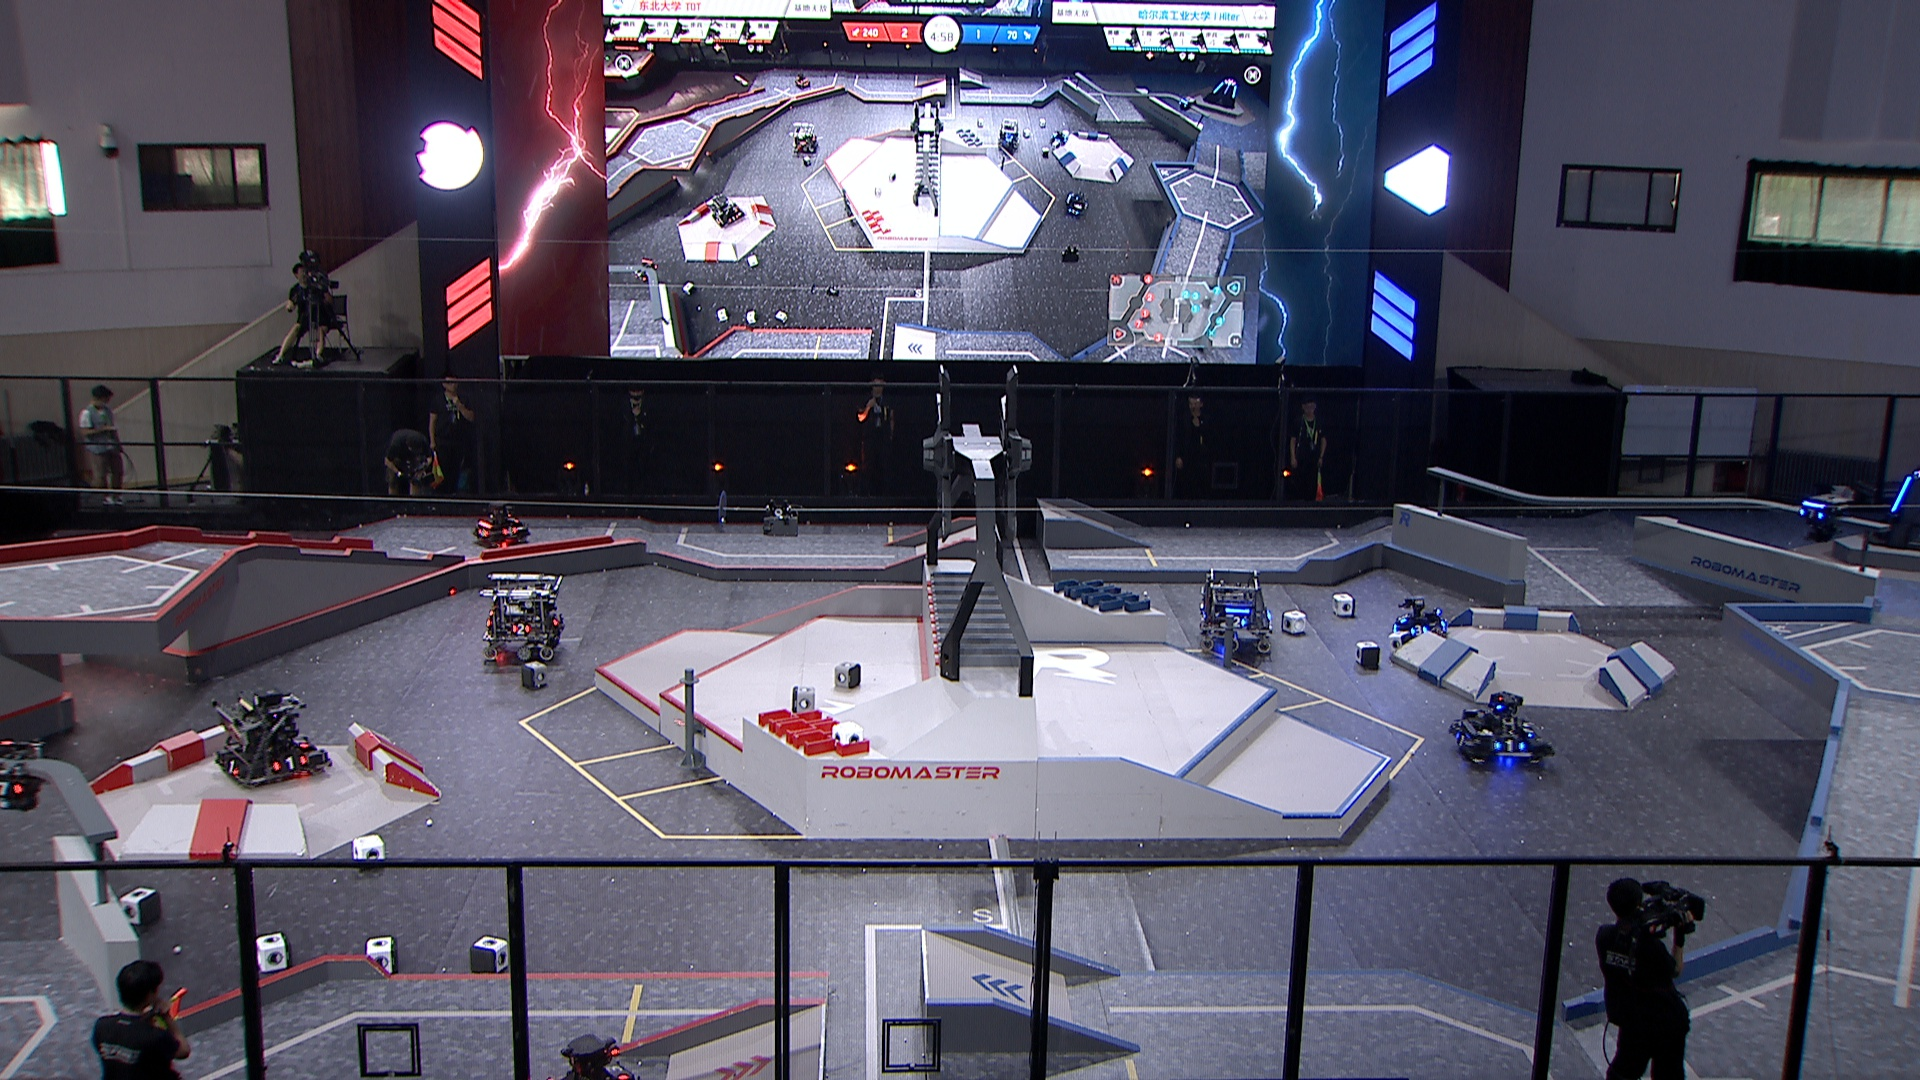armor: (1888, 473, 1913, 512), (1797, 505, 1826, 524), (276, 754, 306, 770), (224, 756, 243, 779), (1494, 738, 1527, 752), (605, 1063, 628, 1077), (290, 733, 310, 749), (1520, 719, 1534, 738), (510, 622, 529, 636), (1229, 615, 1247, 628), (1455, 732, 1470, 746), (1408, 626, 1425, 638), (1399, 611, 1410, 628), (504, 524, 518, 535), (551, 612, 562, 626), (506, 513, 520, 524), (477, 527, 489, 538)
base: (1863, 462, 1920, 555)
car: (204, 680, 334, 787), (475, 570, 567, 669), (1451, 688, 1555, 770), (1195, 564, 1273, 657), (543, 1031, 637, 1080), (473, 498, 531, 559), (1387, 593, 1451, 645)
ignore: (708, 191, 744, 229), (789, 123, 820, 157), (1204, 76, 1240, 107), (996, 119, 1022, 148), (1060, 187, 1088, 214), (633, 256, 662, 280), (1178, 91, 1199, 112), (793, 73, 814, 90)
watcher: (1793, 493, 1846, 546)
